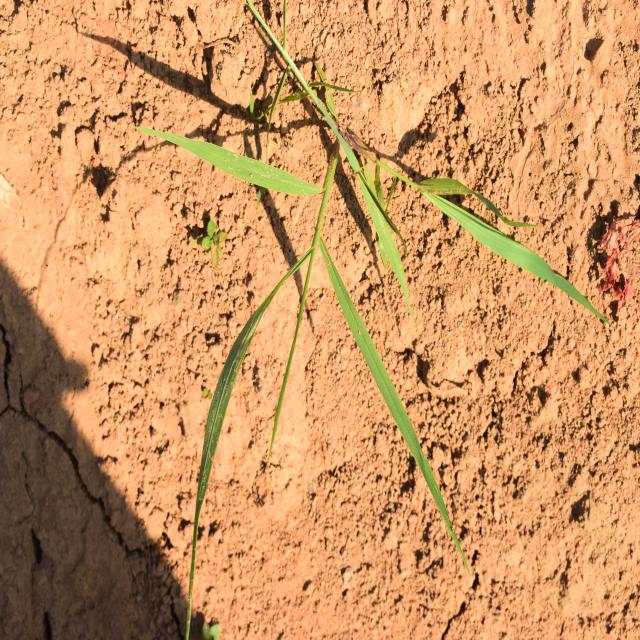green_foxtail: (140, 140, 465, 512)
